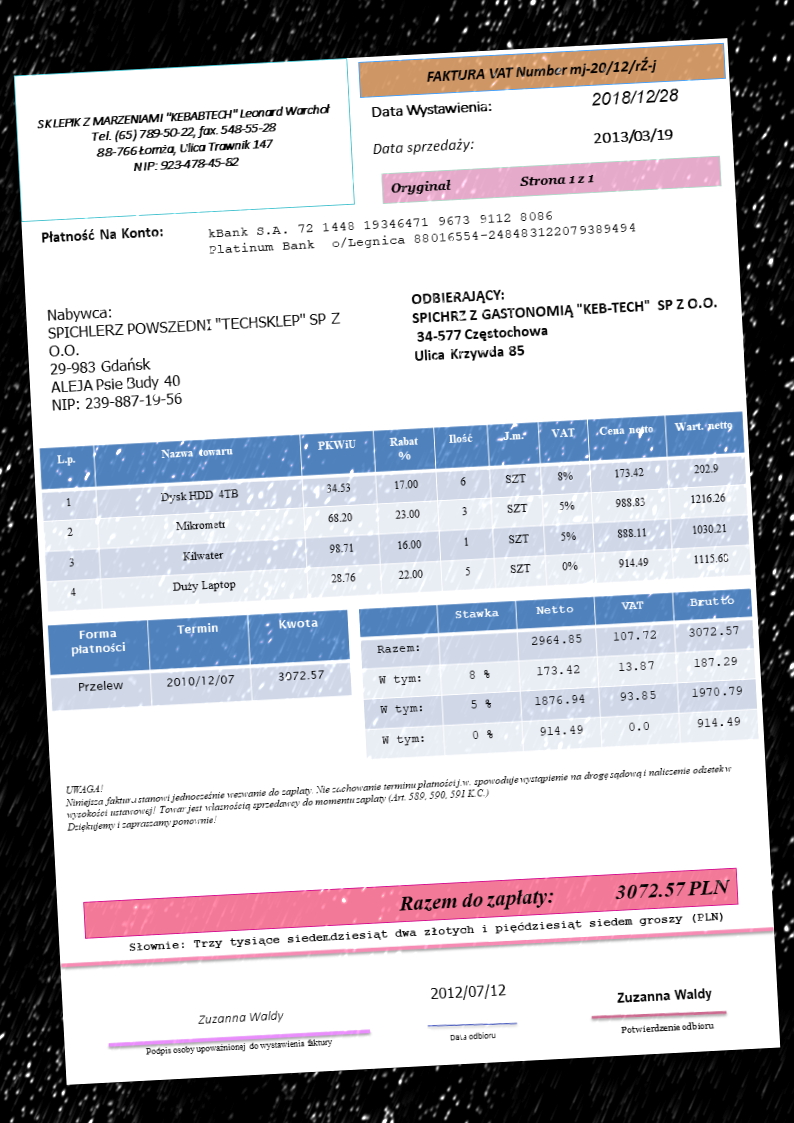Table: (37, 407, 754, 615), (356, 585, 761, 761), (46, 606, 354, 713)
TextBox: (62, 747, 738, 835), (44, 290, 347, 415), (406, 274, 722, 367), (126, 908, 726, 956), (34, 99, 338, 182), (204, 201, 639, 258), (394, 872, 734, 917), (423, 55, 661, 86), (388, 168, 597, 200), (142, 1033, 336, 1059), (367, 95, 495, 124), (367, 132, 478, 160), (38, 223, 167, 246), (612, 982, 716, 1008), (589, 84, 681, 112), (618, 1015, 716, 1039), (192, 1005, 287, 1029), (425, 979, 508, 1004), (589, 125, 676, 148), (446, 1025, 499, 1046)
